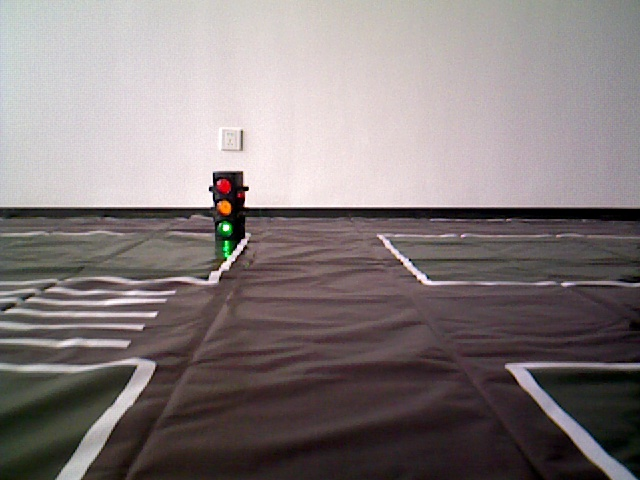green: (211, 172, 245, 235)
